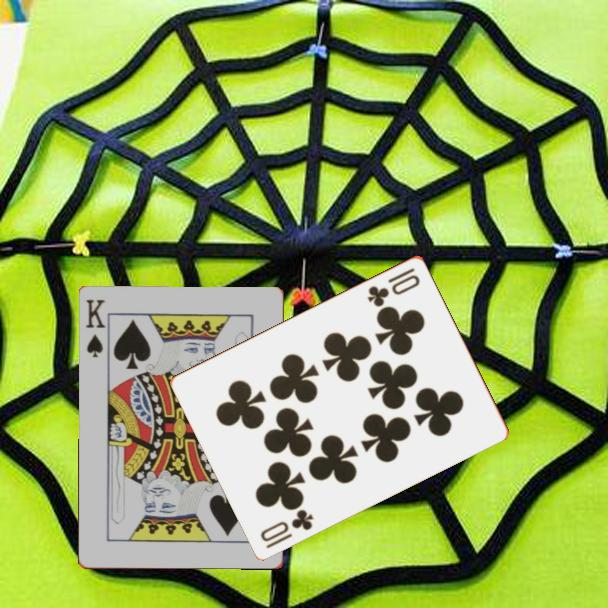c10: (257, 505, 317, 551), (364, 264, 423, 309)
s13: (82, 296, 109, 361)
